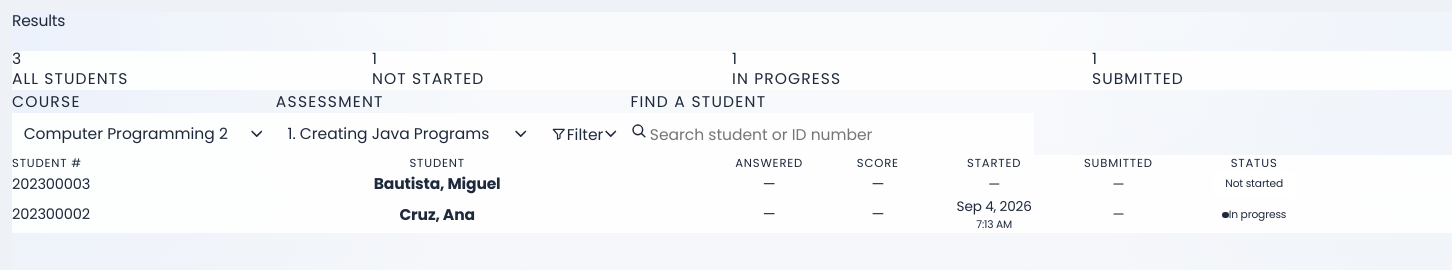
Scenario: narrowing by state › says a state nobody is in is empty, rather than the course
Check: the text "Bautista, Miguel" is shown, box [374,173,500,194]
Click the dropdown named "Filter by status": [585, 134] box [540,113,630,155]
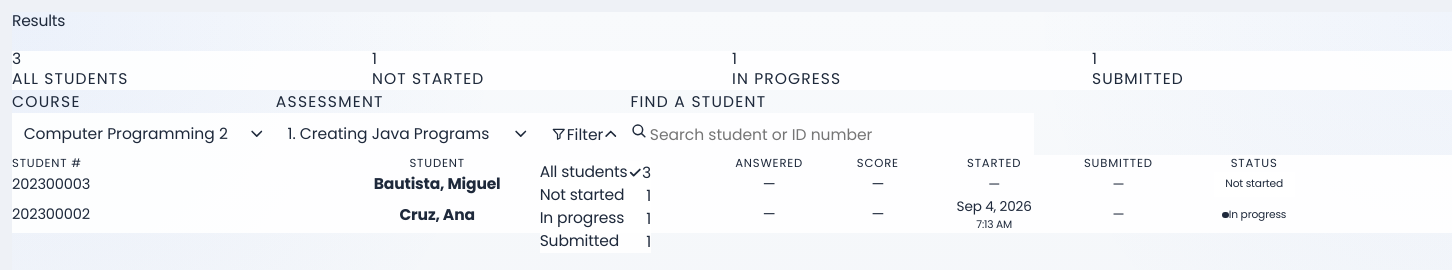
Press the mouse on the option "Submitted 1": [595, 242] box [540,230,651,253]
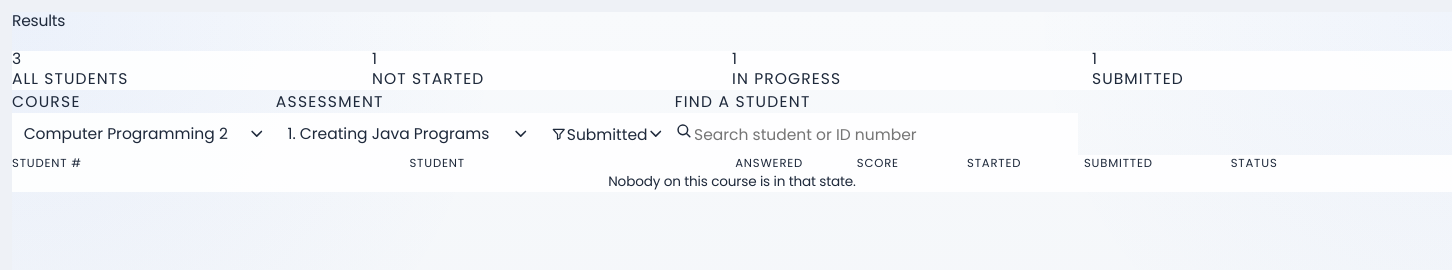
Check: the text "Nobody on this course is in that state." is shown, box [12,172,1451,192]
